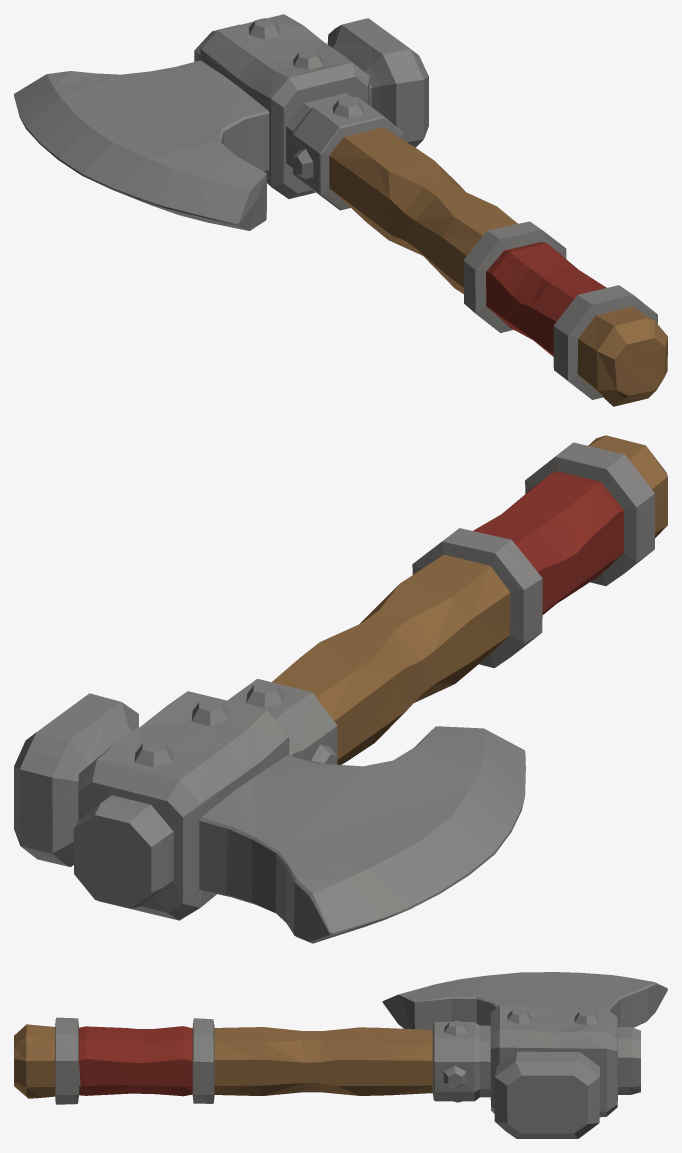
File: MedievalBattleAxe.fbx
3 renders of one model, top to bottom at view 1: azimuth 30°, elevation 25°; view 2: azimuth 150°, elevation 25°; view 3: azimuth 270°, elevation 25°, orthographic. The views are drawn at different scales.
Visible parts, largest first — view 1: MedievalBattleAxe; view 2: MedievalBattleAxe; view 3: MedievalBattleAxe.
Part boxes in pixels (x1,y1,x2,y2): MedievalBattleAxe: (14, 14, 667, 406); MedievalBattleAxe: (14, 435, 667, 943); MedievalBattleAxe: (14, 972, 667, 1138).
Bounding box in the file's own units: 0.4076 × 0.9001 × 0.1517.
